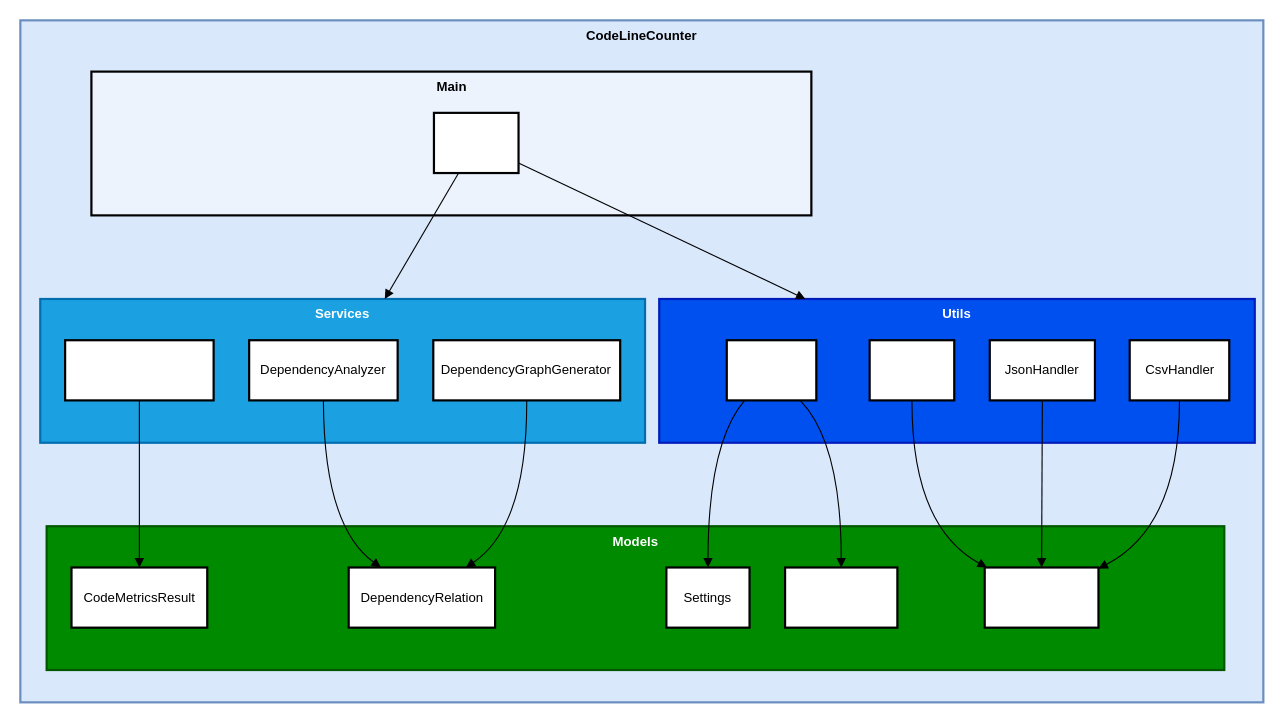
This 1283x722 diagram has some shape labels left out. The centre of each missing label's shape, as x and y in pixels:
AnalysisResult: pixel 1041 597
CodeMetricsAnalyzer: pixel 138 370
CoreUtils: pixel 771 370
ExportFormat: pixel 840 597
FileUtils: pixel 911 370
Program: pixel 475 142
